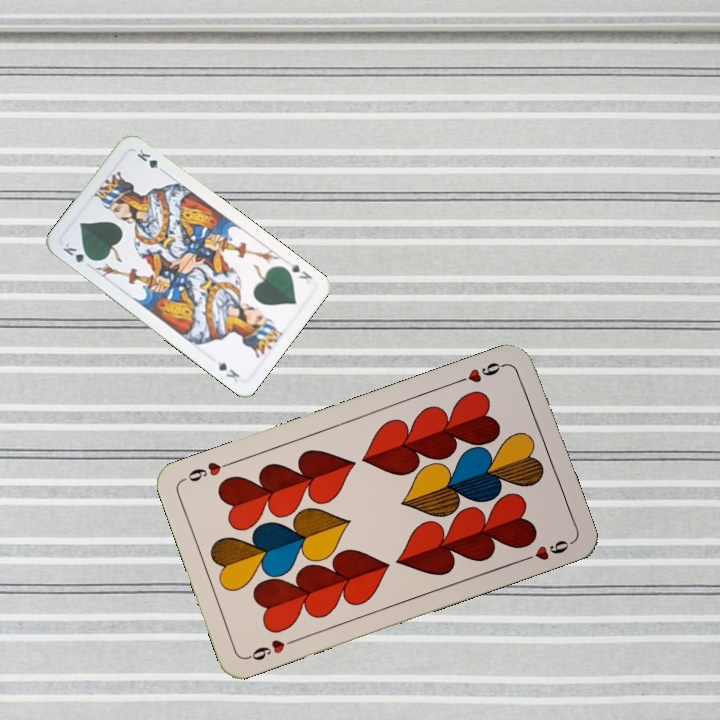GK: (58, 239, 96, 266), (285, 259, 315, 282)
H9: (243, 634, 300, 663), (452, 358, 510, 386)
